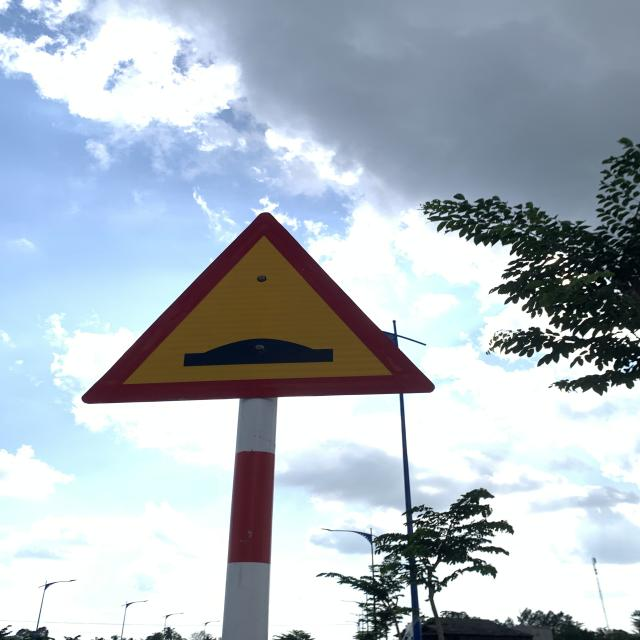Duong_Cong_Ben_Phai: (82, 212, 436, 404)
